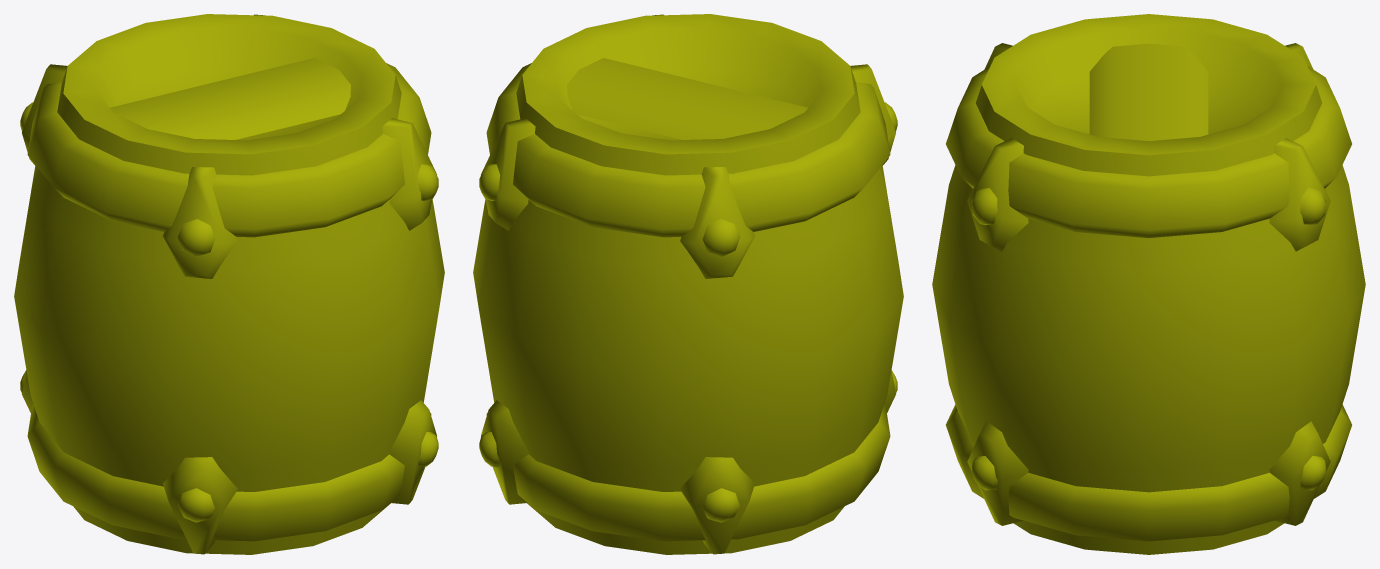
File: SM_Crates_02.fbx
3 renders of one model, left to right at view 1: azimuth 30°, elevation 25°; view 2: azimuth 150°, elevation 25°; view 3: azimuth 270°, elevation 25°, orthographic.
Visible parts, largest first — view 1: Crates_02; view 2: Crates_02; view 3: Crates_02.
Part boxes in pixels (x1,y1,x2,y2): Crates_02: [14, 14, 444, 554]; Crates_02: [473, 14, 903, 554]; Crates_02: [932, 14, 1365, 554].
Size of the model in its own units: 73.85 by 75.11 by 73.85.
